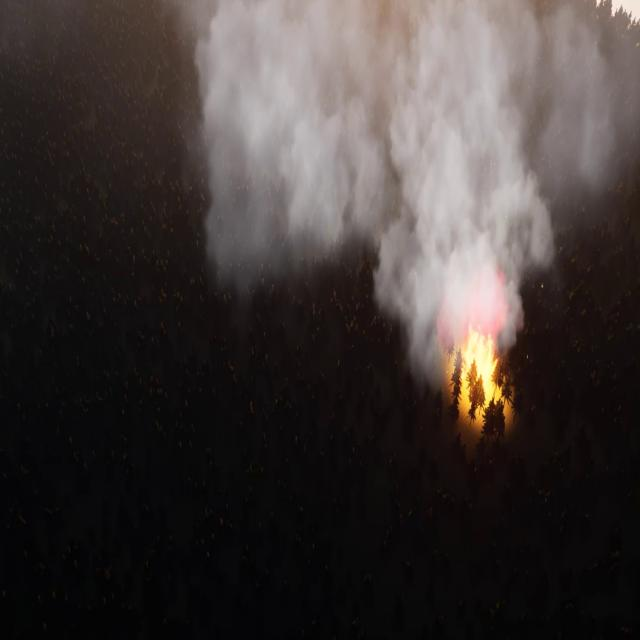fire: (460, 324, 516, 428)
smoke: (180, 0, 640, 394)
